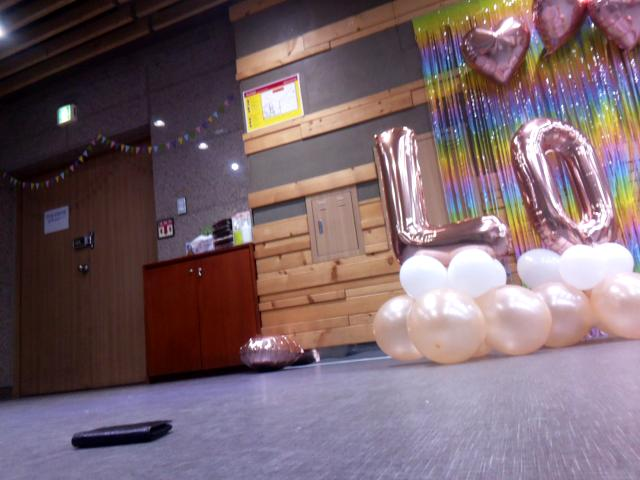wallet: (69, 415, 182, 448)
